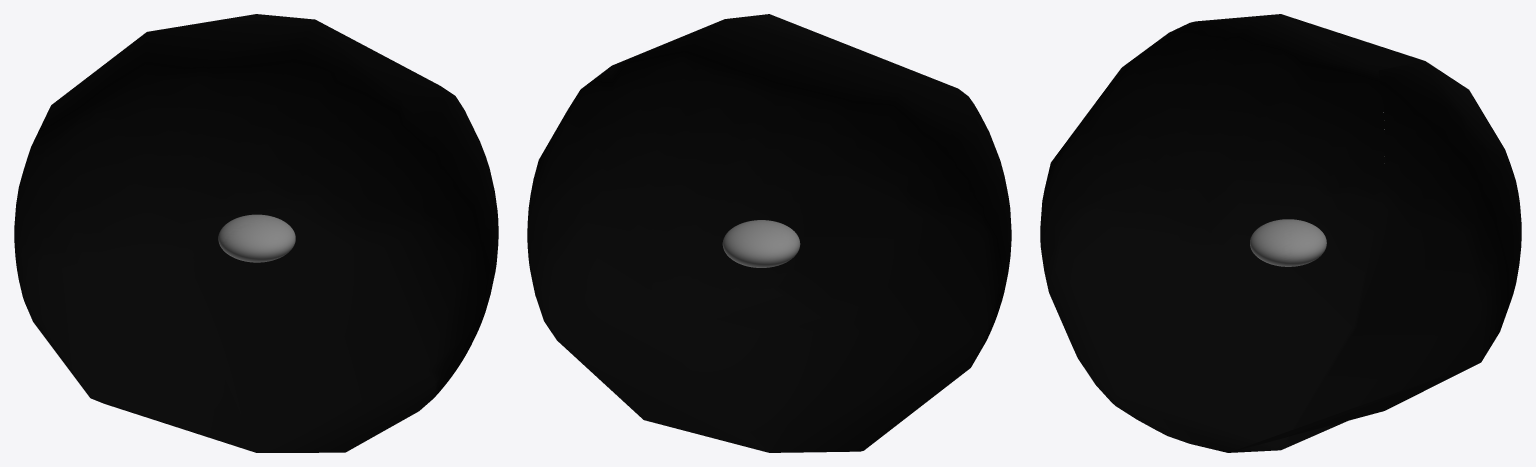
The model's file is ShipPreview_ContextPrefab.glb.
The picture shows the model from 3 angles, left to right: view 1: azimuth 30°, elevation 25°; view 2: azimuth 150°, elevation 25°; view 3: azimuth 270°, elevation 25°; orthographic projection.
Visible parts, largest first — view 1: SkyboxMesh, skybox_grid_01; view 2: SkyboxMesh, skybox_grid_01; view 3: SkyboxMesh, skybox_grid_01.
Part boxes in pixels (x1=…): SkyboxMesh: x1=14, y1=14, x2=498, y2=452; skybox_grid_01: x1=218, y1=214, x2=295, y2=262; SkyboxMesh: x1=527, y1=14, x2=1011, y2=452; skybox_grid_01: x1=722, y1=220, x2=800, y2=267; SkyboxMesh: x1=1040, y1=14, x2=1521, y2=452; skybox_grid_01: x1=1250, y1=219, x2=1326, y2=266.
Size of the model in its own units: 1000 by 1000 by 1000.
Materials: 4 (3 with a texture image).
